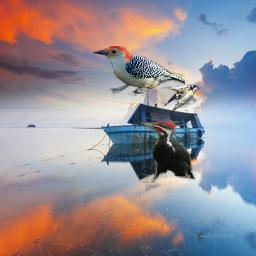Swallow: (161, 84, 200, 114)
Woodpecker: (93, 46, 185, 96), (140, 117, 196, 183)
